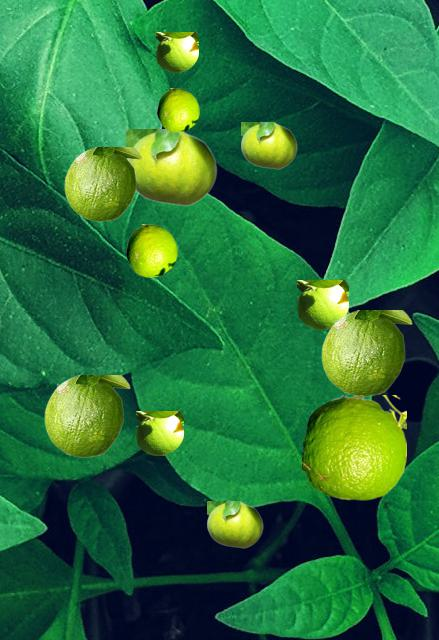dalandan: (302, 395, 405, 499), (321, 310, 411, 395), (44, 375, 129, 456), (126, 129, 216, 205), (64, 147, 141, 220), (126, 224, 176, 276), (207, 501, 262, 547), (241, 122, 296, 168), (297, 280, 347, 328), (136, 411, 182, 454), (157, 88, 198, 131), (156, 32, 197, 71)
